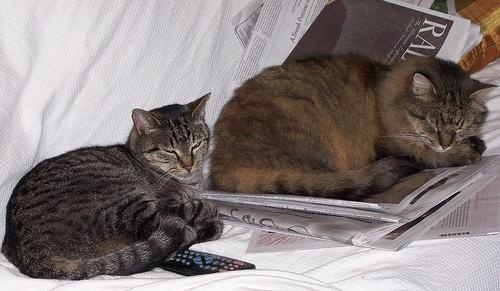cat: (3, 93, 224, 283), (214, 56, 498, 199)
